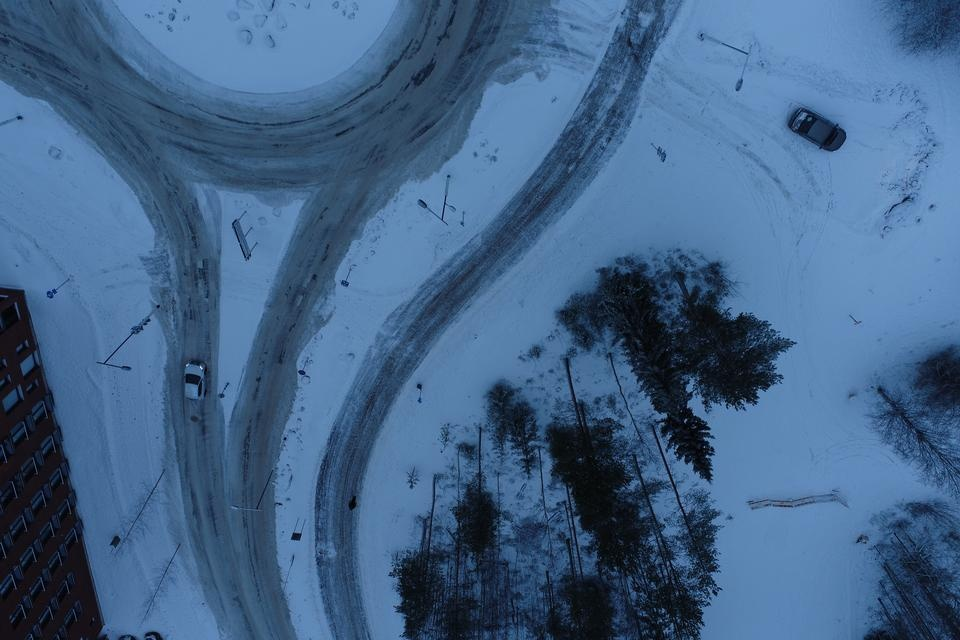roundabout: (0, 0, 688, 233)
